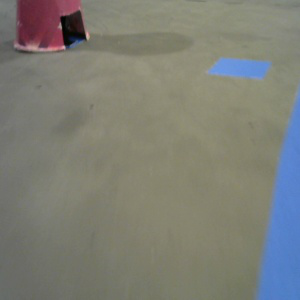middle: (14, 1, 89, 52)
